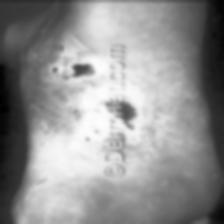Non-Cancerous Skin Condition: (70, 112, 102, 152), (102, 96, 140, 126), (69, 61, 97, 79), (51, 66, 59, 72)
